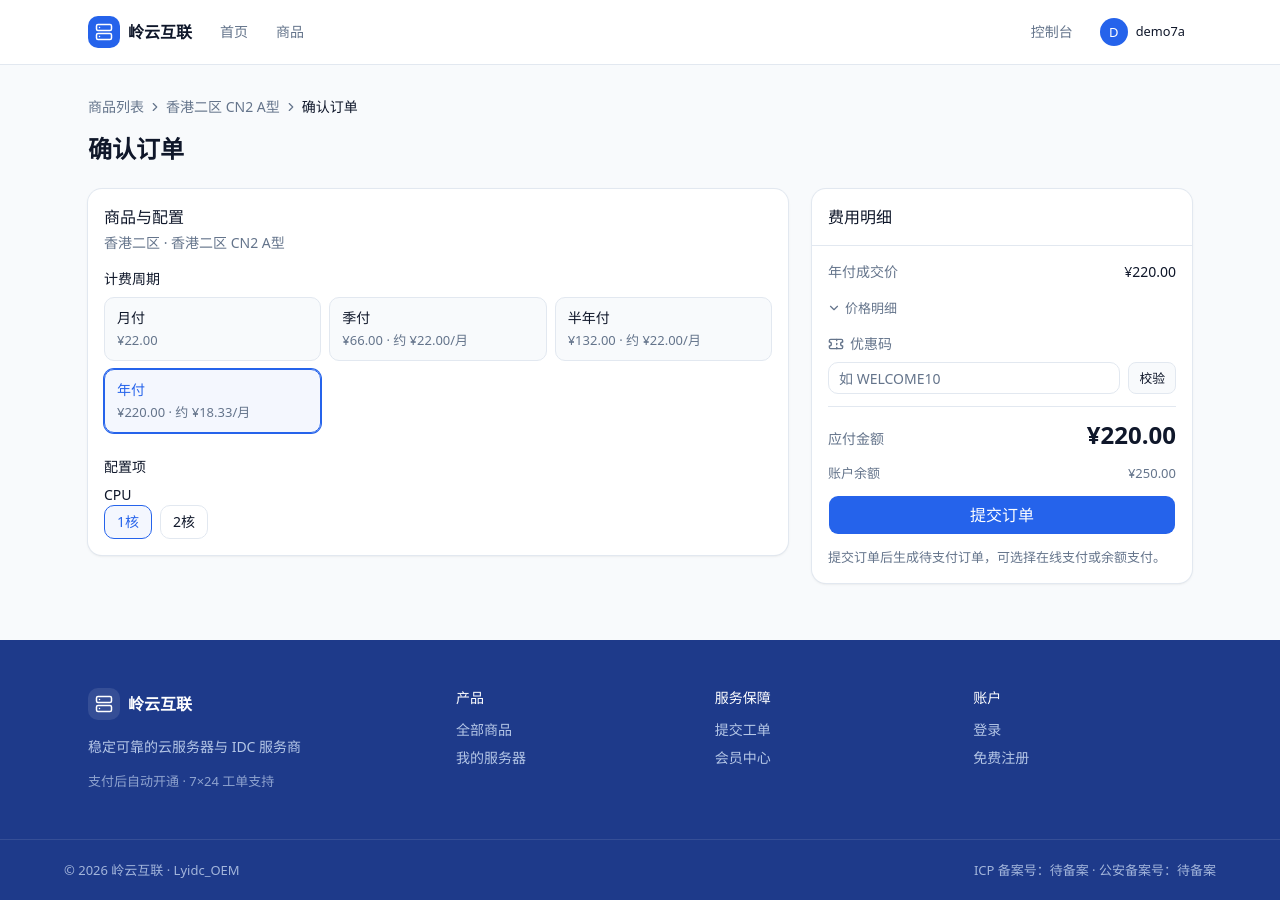
Test: 结算页 › 改配置实时重算金额：换 CPU 后应付变化且明细可展开（R7 价格联动）
Expected: the heading "确认订单" is shown, [88, 132, 184, 165]
Expected: the text with test id "payable-amount" reads "¥220.00", [1087, 418, 1176, 451]
Note: 换 2核 → +200.00 → 420.00（实时重算）
Click the text "2核" at (184, 522), box [160, 505, 208, 539]
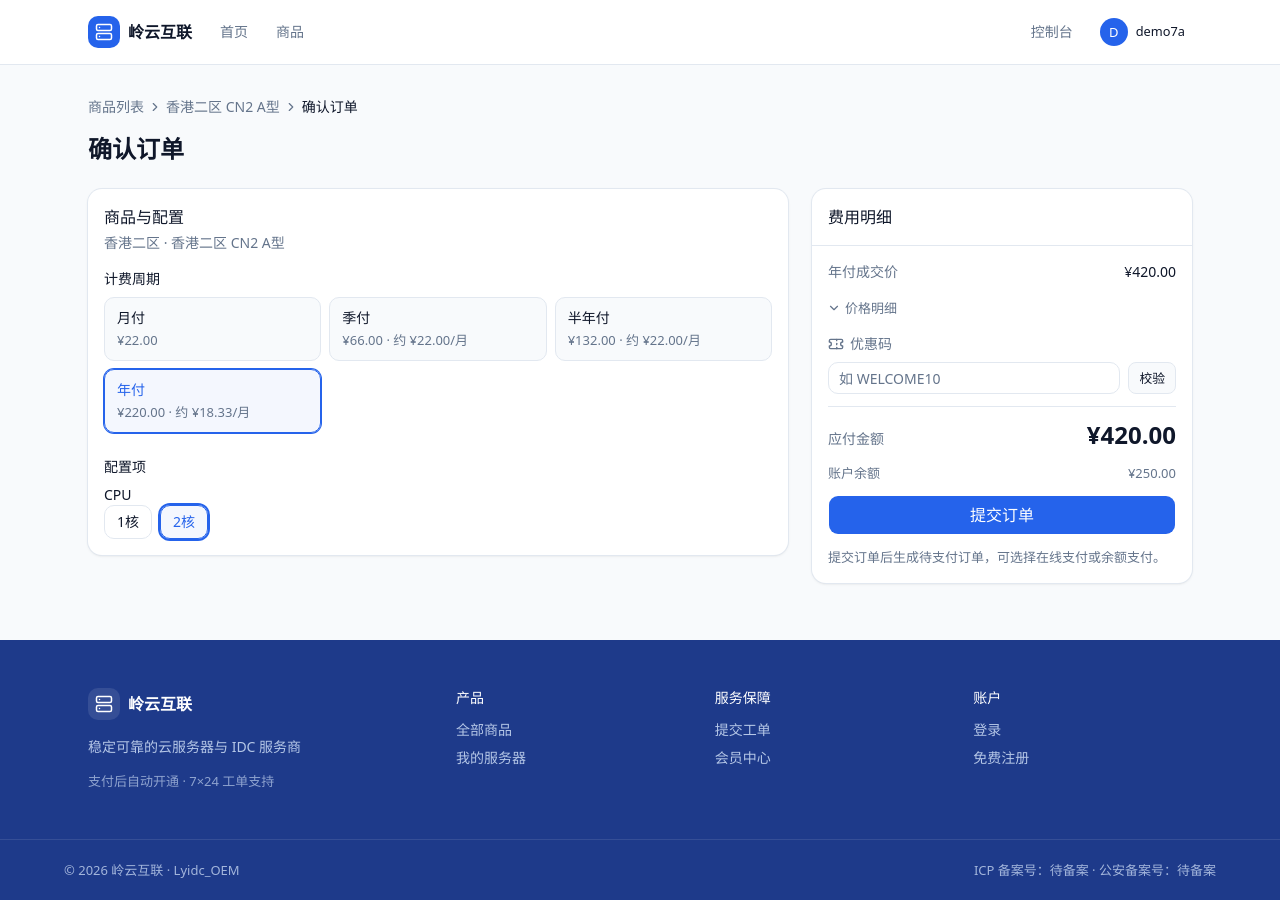
Now the text with test id "payable-amount" reads "¥420.00", box [1087, 418, 1176, 451]
Note: 明细可展开：基础价 + CPU 差价 + 合计
Click the button "价格明细" at (863, 308), box [820, 294, 906, 322]
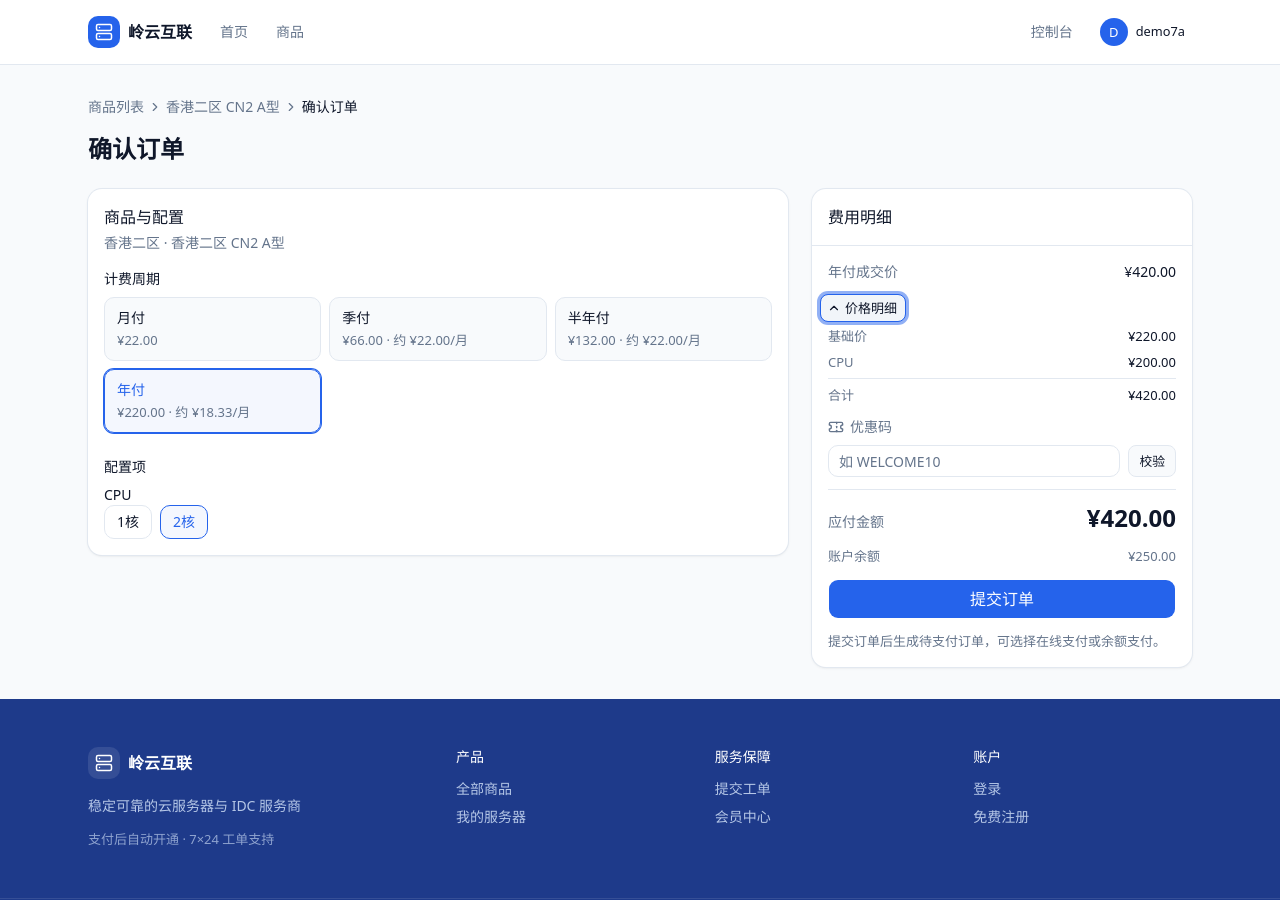
Now the text "基础价" is shown, box [828, 326, 867, 346]
Now the text "¥200.00" is shown, box [1128, 352, 1176, 372]
Now the text "¥420.00" in the row of "合计" is shown, box [1128, 386, 1176, 404]
